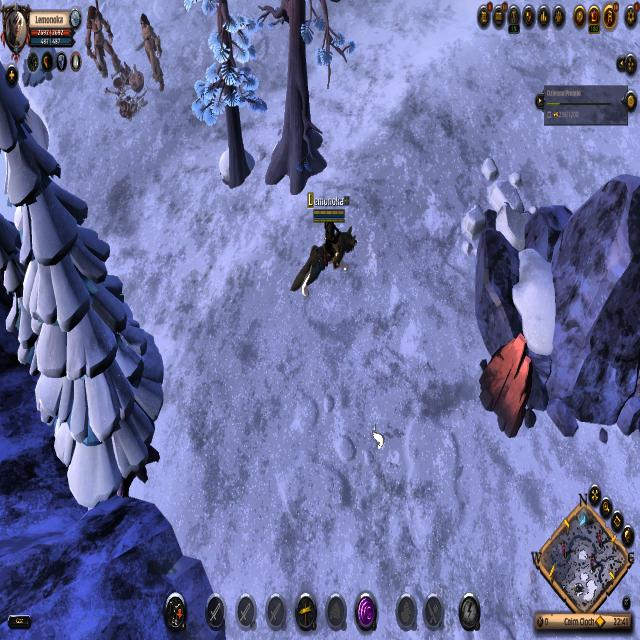rock tier 5: (478, 338, 533, 430)
